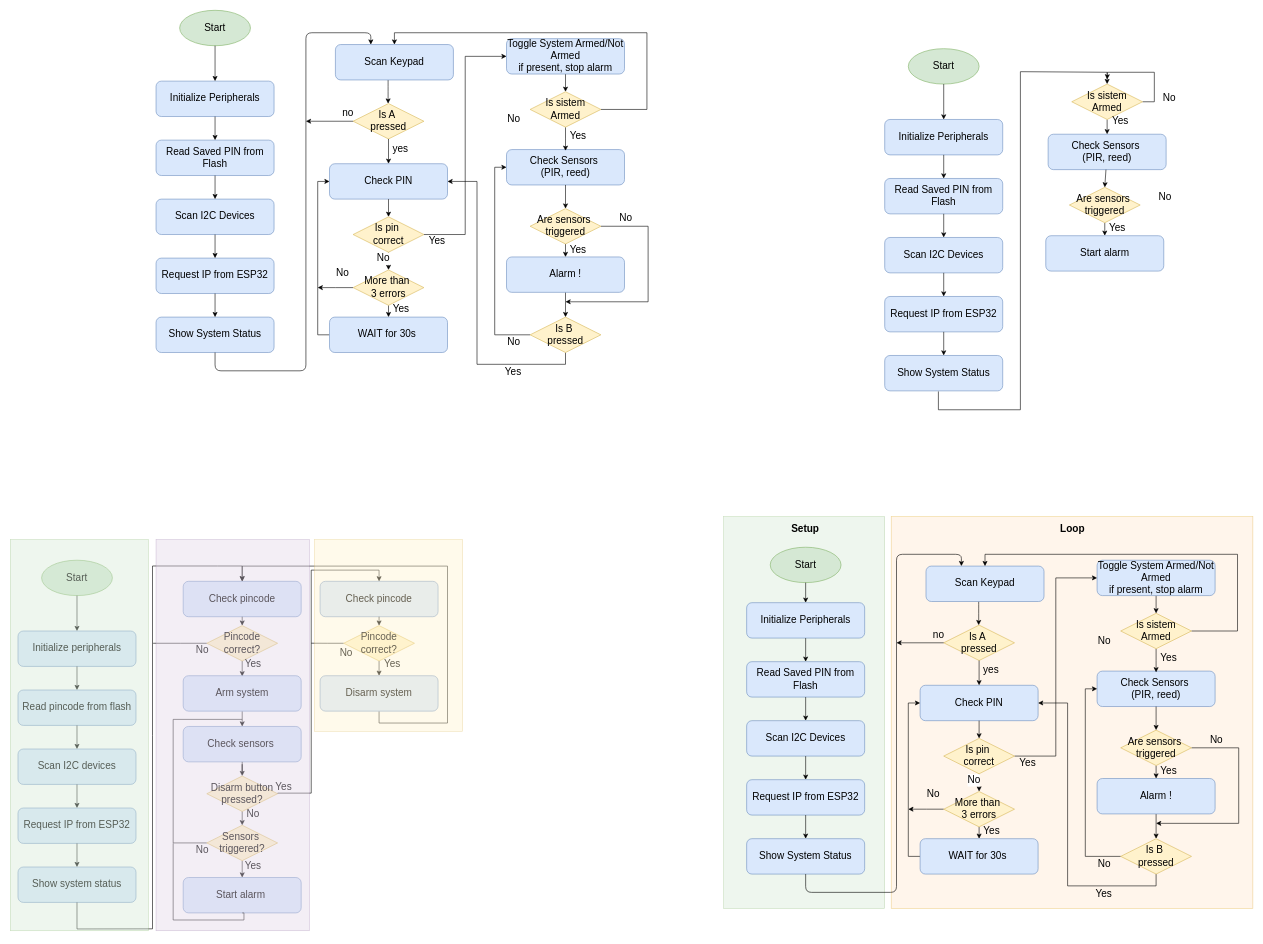
This 1263x944 diagram has some shape labels left out. The centre of each missing label's shape, as x and y in pixels:
Activation and run: the point at 232,735
Deactivation: the point at 388,635
Initialization: the point at 79,735
